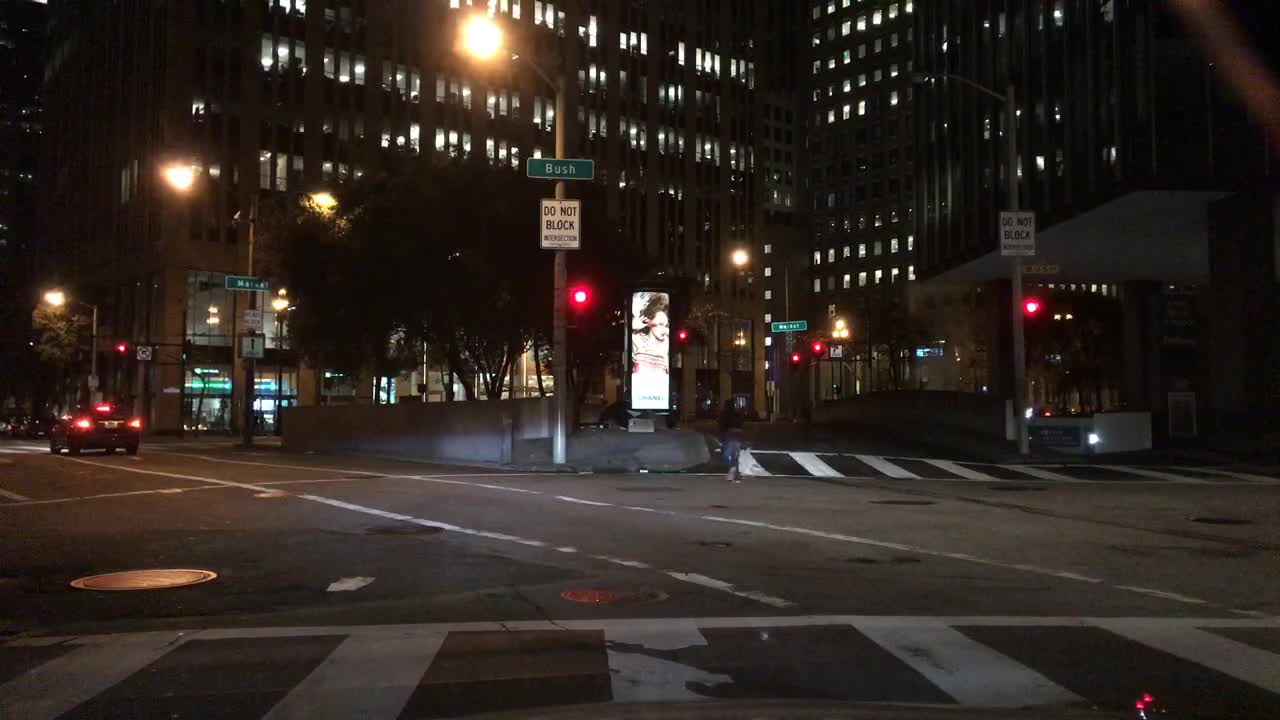car: (44, 399, 140, 453), (0, 411, 16, 444), (20, 413, 34, 439)
person: (716, 395, 744, 481)
traffic light: (574, 285, 586, 318), (1027, 294, 1039, 322), (789, 350, 800, 373), (179, 340, 189, 362), (677, 326, 688, 344), (812, 341, 822, 360), (118, 343, 126, 364)
traffic sign: (995, 210, 1037, 257), (543, 201, 579, 245), (525, 159, 593, 180), (224, 276, 268, 292), (770, 318, 807, 336), (242, 334, 265, 360), (242, 311, 263, 327), (1023, 261, 1063, 269), (137, 346, 153, 360), (86, 371, 97, 387), (833, 345, 841, 360)
